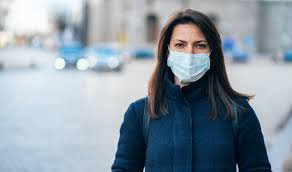mask: (154, 9, 235, 89)
